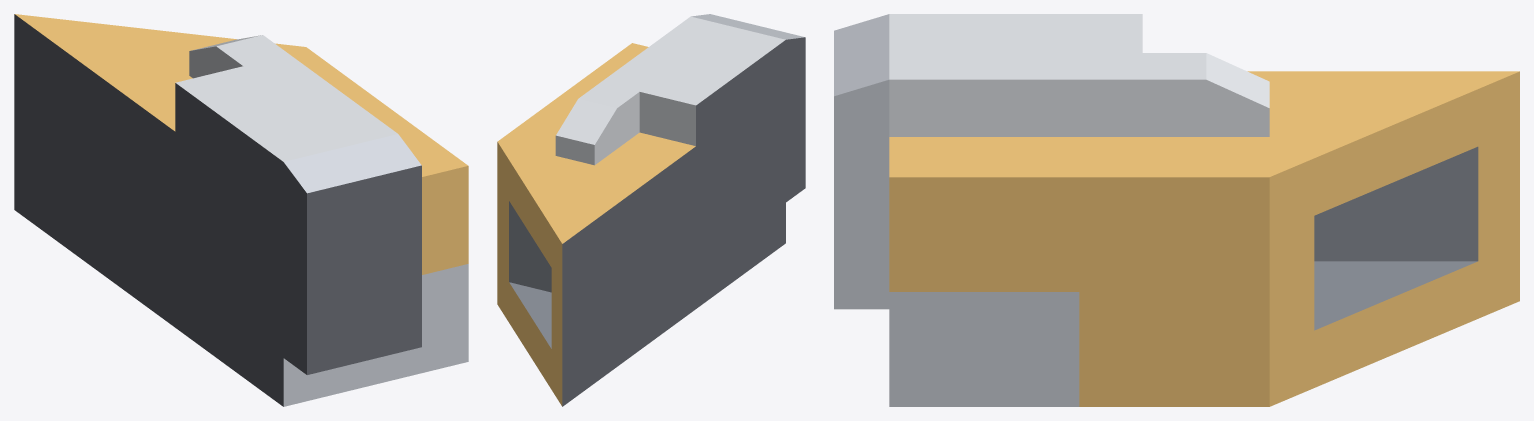
Rendered from wing_starboard.glb.
The picture shows the model from 3 angles, left to right: view 1: azimuth 30°, elevation 25°; view 2: azimuth 150°, elevation 25°; view 3: azimuth 270°, elevation 25°; orthographic projection. The views are drawn at different scales.
Size of the model in its own units: 0.79 by 1 by 2.16.
